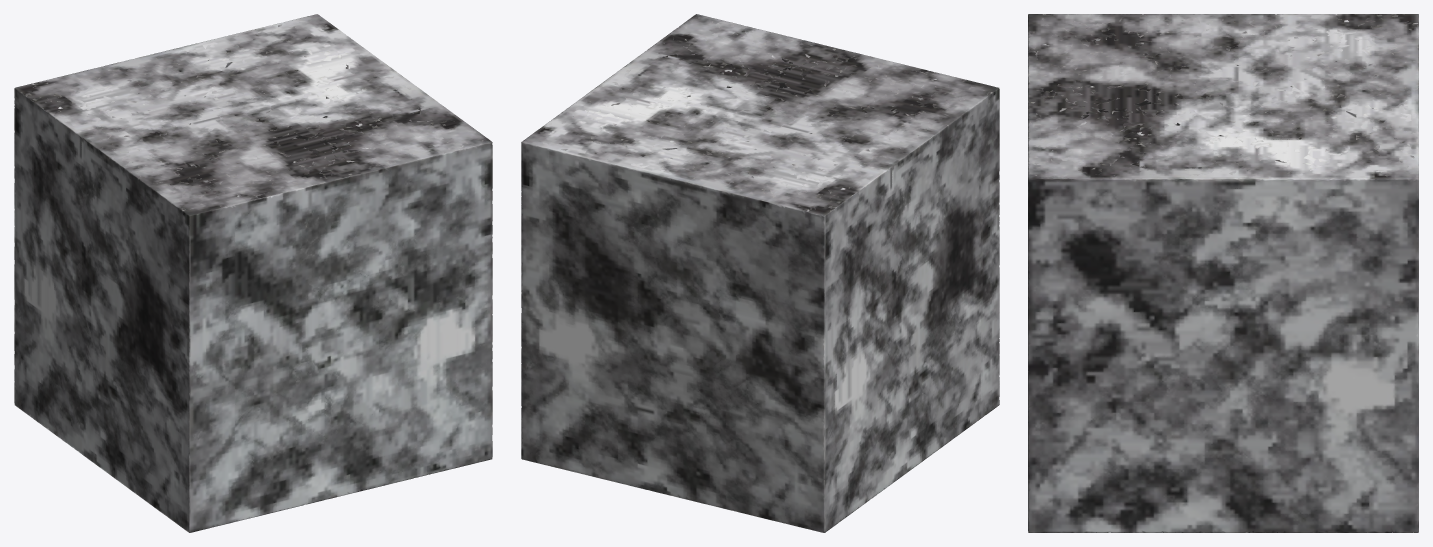
The model's file is Miscellaneous [1efCiX].glb.
3 views of the same model, side by side, from view 1: azimuth 30°, elevation 25°; view 2: azimuth 150°, elevation 25°; view 3: azimuth 270°, elevation 25° (orthographic). The views are drawn at different scales.
Visible parts, largest first — view 1: world; view 2: world; view 3: world.
Part boxes in pixels (x1=…): world: x1=14, y1=14, x2=492, y2=532; world: x1=521, y1=14, x2=999, y2=532; world: x1=1028, y1=14, x2=1418, y2=532.
Bounding box in the file's own units: 1 × 1 × 1.
1 material, 1 textured.
